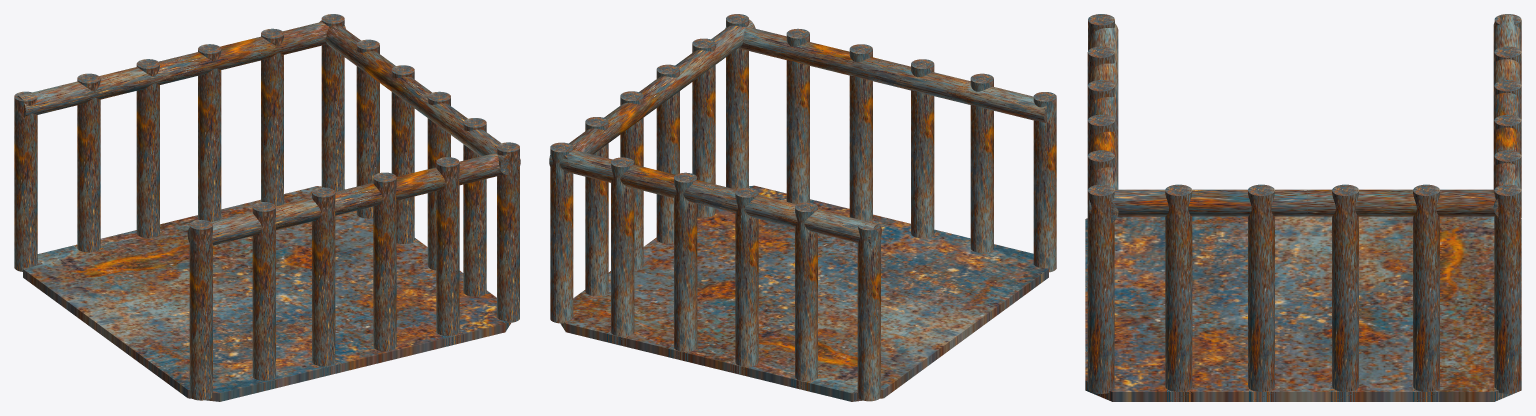
File: barierki_v2.fbx
3 renders of one model, left to right at view 1: azimuth 30°, elevation 25°; view 2: azimuth 150°, elevation 25°; view 3: azimuth 270°, elevation 25°, orthographic. The views are drawn at different scales.
Visible parts, largest first — view 1: Plane.008, Cylinder.010, Cylinder.021, Cylinder.022, Cylinder.015, Cylinder.012, Cylinder.013, Cylinder.011, Cylinder.014, Cylinder.004, Cylinder.005, Cylinder.006 (+2 smaller); view 2: Plane.008, Cylinder.010, Cylinder.022, Cylinder.021, Cylinder.004, Cylinder.008, Cylinder.006, Cylinder.007, Cylinder.015, Cylinder.005, Cylinder.014, Cylinder.013 (+2 smaller); view 3: Plane.008, Cylinder.010, Cylinder.021, Cylinder.022, Cylinder.012, Cylinder.011, Cylinder.013, Cylinder.014, Cylinder.015, Cylinder.007, Cylinder.005, Cylinder.008 (+1 smaller).
Part boxes in pixels (box(x1,y1,x2,y2)): Plane.008: box(23, 186, 510, 401); Cylinder.010: box(319, 14, 520, 322); Cylinder.021: box(17, 22, 345, 117); Cylinder.022: box(187, 153, 502, 245); Cylinder.015: box(189, 220, 212, 400); Cylinder.012: box(373, 172, 396, 351); Cylinder.013: box(312, 187, 335, 366); Cylinder.011: box(436, 157, 459, 335); Cylinder.014: box(252, 202, 275, 380); Cylinder.004: box(14, 91, 37, 271); Cylinder.005: box(77, 73, 100, 252); Cylinder.006: box(136, 59, 159, 237); Plane.008: box(560, 185, 1048, 401); Cylinder.010: box(550, 14, 755, 323); Cylinder.022: box(725, 27, 1046, 123); Cylinder.021: box(549, 150, 881, 244); Cylinder.004: box(857, 220, 880, 401); Cylinder.008: box(611, 157, 634, 336); Cylinder.006: box(735, 187, 758, 366); Cylinder.007: box(674, 172, 697, 351); Cylinder.015: box(1033, 92, 1056, 272); Cylinder.005: box(795, 202, 817, 381); Cylinder.014: box(970, 73, 993, 252); Cylinder.013: box(911, 59, 934, 238); Plane.008: box(1085, 216, 1521, 401); Cylinder.010: box(1087, 184, 1521, 393); Cylinder.021: box(1493, 14, 1520, 216); Cylinder.022: box(1091, 23, 1118, 223); Cylinder.012: box(1087, 114, 1114, 155); Cylinder.011: box(1087, 150, 1114, 189); Cylinder.013: box(1087, 80, 1114, 119); Cylinder.014: box(1087, 46, 1114, 85); Cylinder.015: box(1088, 14, 1114, 50); Cylinder.007: box(1494, 114, 1521, 154); Cylinder.005: box(1494, 46, 1521, 84); Cylinder.008: box(1494, 150, 1521, 188).
Bounding box in the file's own units: 201 × 104 × 200.
